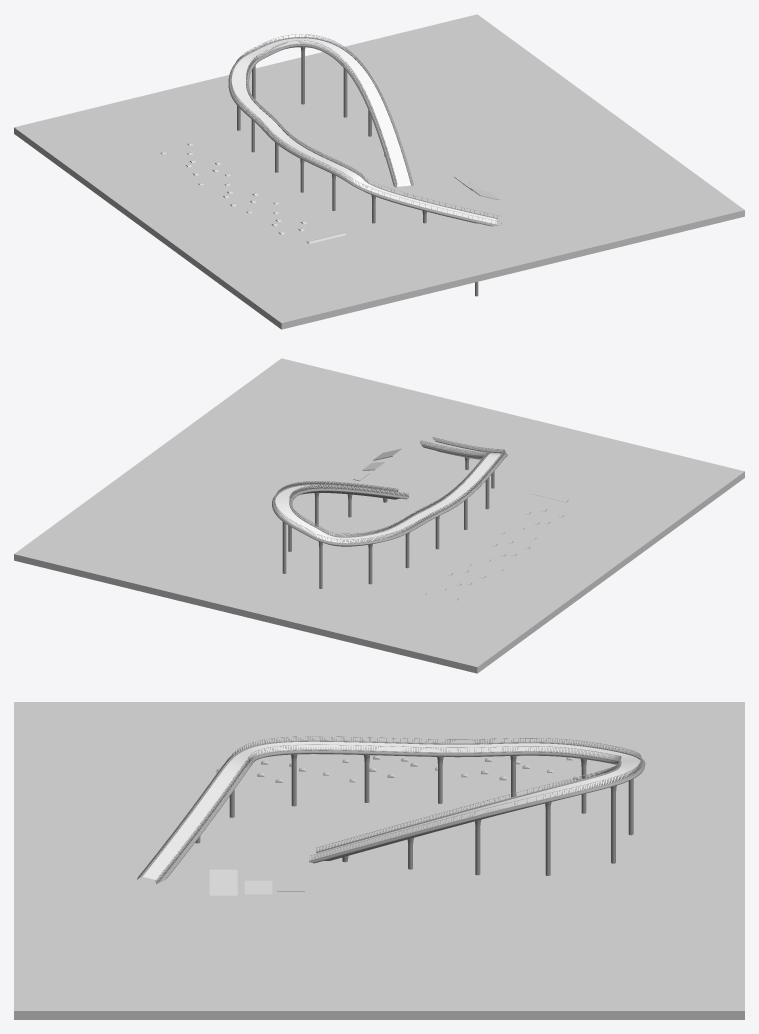
Rendered from testmap.glb.
3 views of the same model, one above another, from view 1: azimuth 30°, elevation 25°; view 2: azimuth 150°, elevation 25°; view 3: azimuth 270°, elevation 25° (orthographic). The views are drawn at different scales.
Parts seen in each view (by area): view 1: Cube.001, 1-TheRMR Bike Bridge; view 2: Cube.001, 1-TheRMR Bike Bridge; view 3: Cube.001, 1-TheRMR Bike Bridge, Cube.003.
Part boxes in pixels (<box>): Cube.001: <box>14,14,744,329</box>; 1-TheRMR Bike Bridge: <box>228,34,501,296</box>; Cube.001: <box>14,358,744,673</box>; 1-TheRMR Bike Bridge: <box>272,437,507,588</box>; Cube.001: <box>14,702,744,1019</box>; 1-TheRMR Bike Bridge: <box>137,736,645,883</box>; Cube.003: <box>209,869,237,895</box>.
Bounding box in the file's own units: 150 × 43.53 × 150.
Materials: 4 (3 with a texture image).
